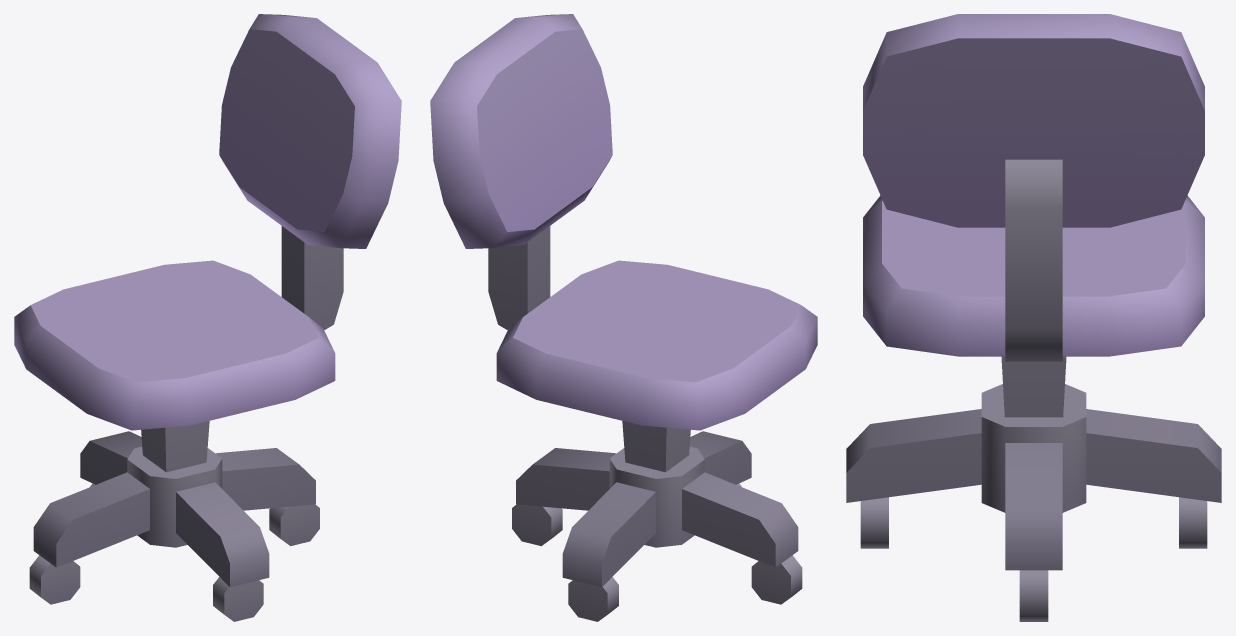
Rendered from desk-chair-basic.glb.
The picture shows the model from 3 angles, left to right: view 1: azimuth 30°, elevation 25°; view 2: azimuth 150°, elevation 25°; view 3: azimuth 270°, elevation 25°; orthographic projection. The views are drawn at different scales.
Visible parts, largest first — view 1: desk-chair-basic; view 2: desk-chair-basic; view 3: desk-chair-basic.
Part boxes in pixels (left/top/right/bottom): desk-chair-basic: left=14, top=14, right=401, bottom=621; desk-chair-basic: left=430, top=14, right=817, bottom=621; desk-chair-basic: left=846, top=14, right=1221, bottom=621.
Bounding box in the file's own units: 0.4751 × 0.7182 × 0.395.
